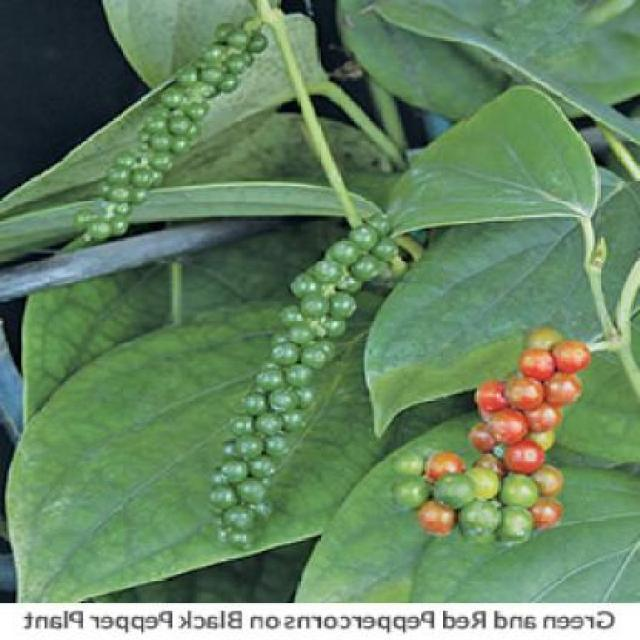RIPE: (451, 337, 598, 498)
UNRIPE: (203, 215, 403, 574), (54, 21, 260, 237)
